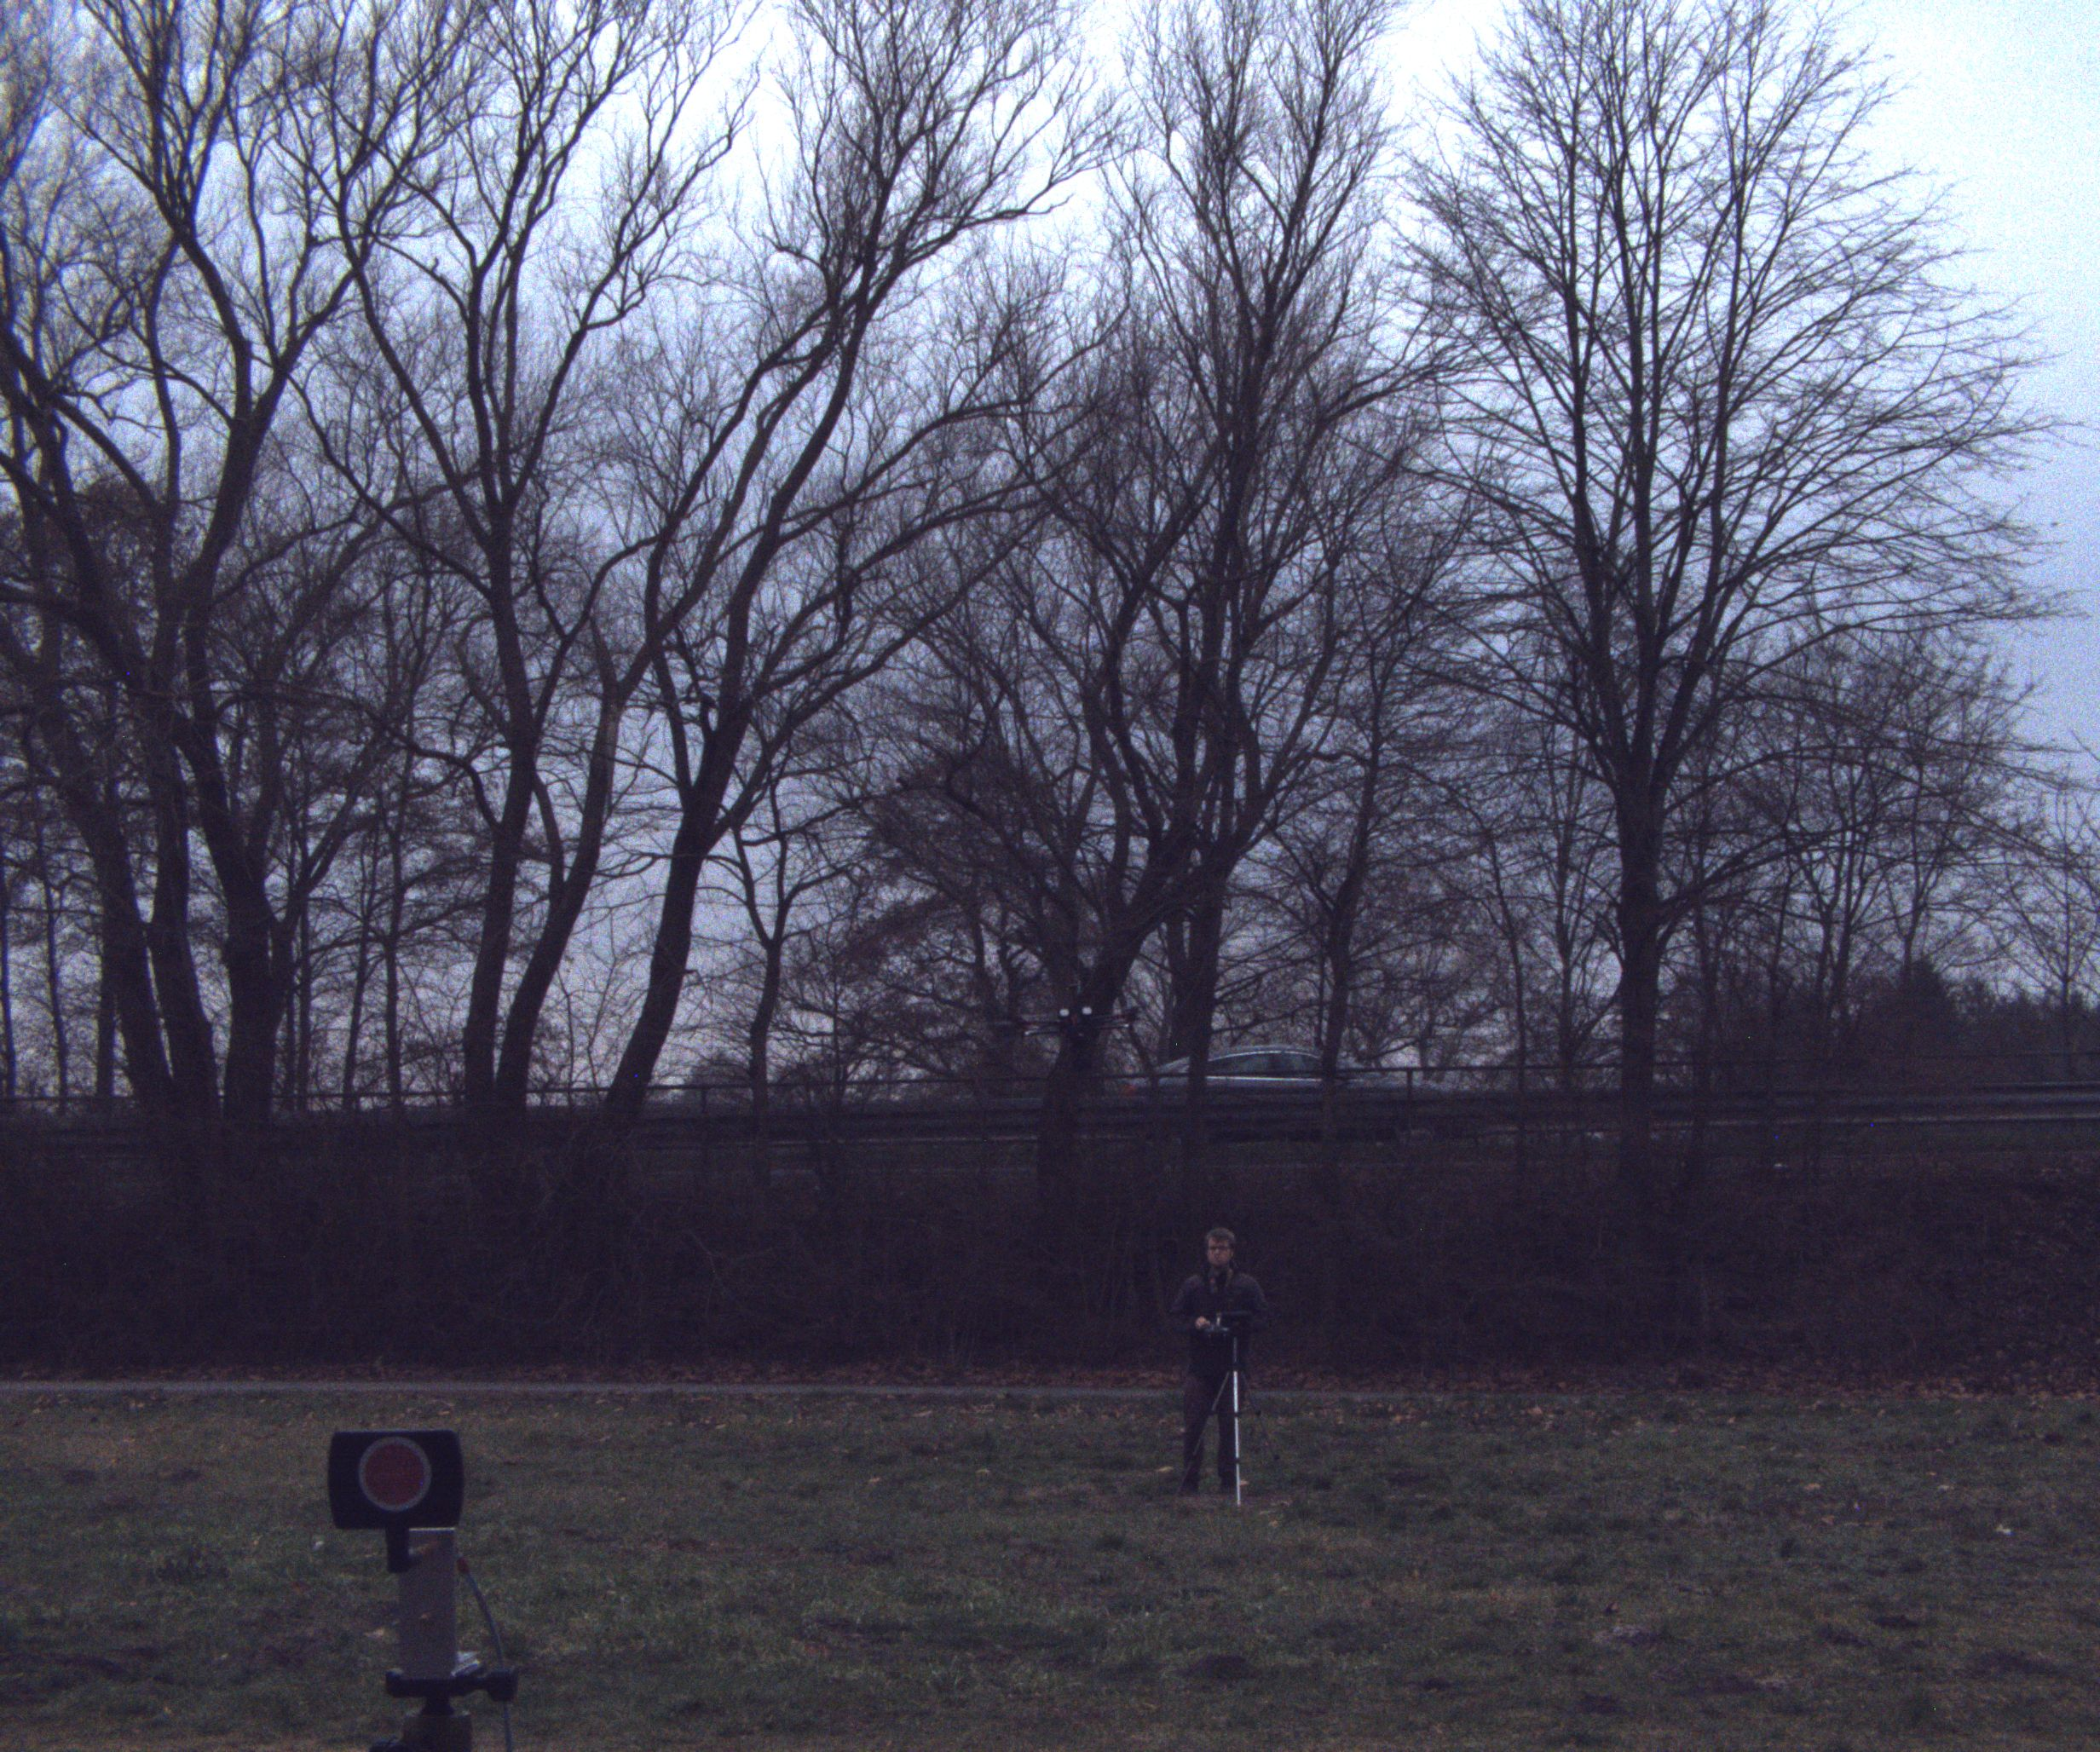Drohne: (970, 957, 1209, 1097)
